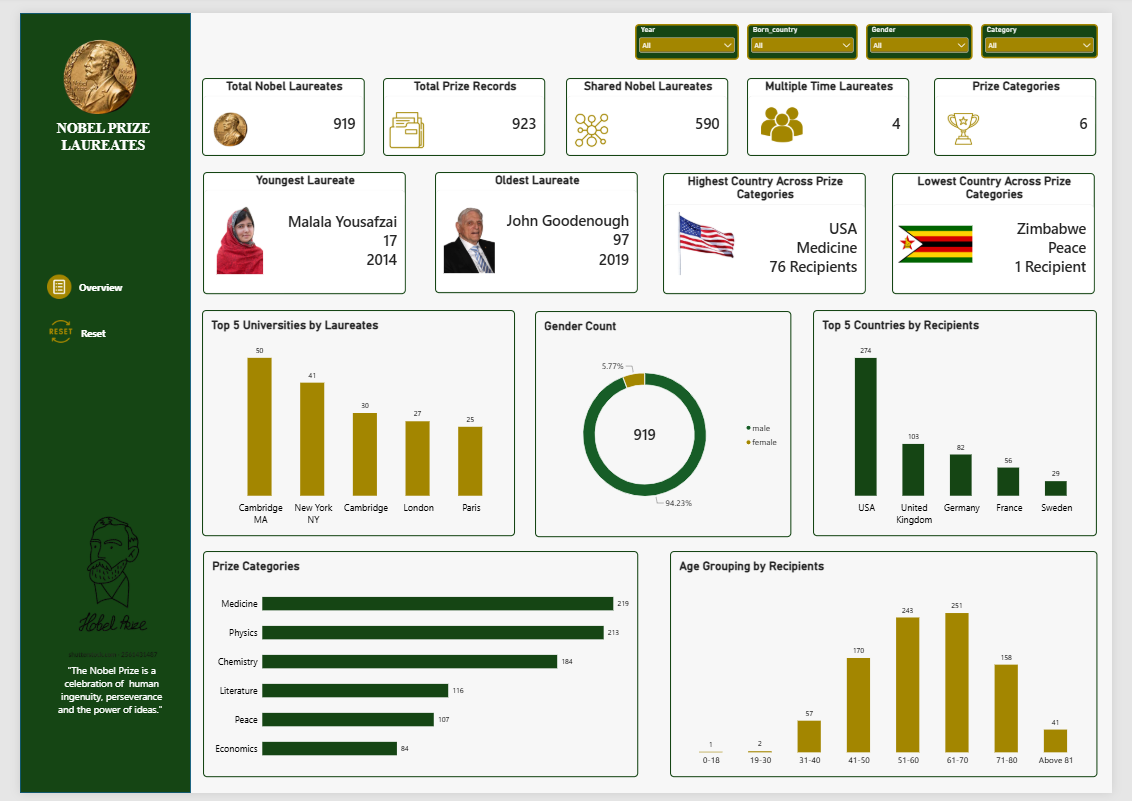

This screenshot's page, from the dashboard's own definition file:
{"tool":"powerbi","page":{"name":"Page 1","canvas":[2100,1500],"ordinal":0},"visuals":[{"type":"shape","box":[0,0,328.6,1500],"z":0},{"type":"cardVisual","title":"Youngest Laureate","fields":{"Data":["Nobel_Prize.Youngest Laureate"]},"box":[351.9,305.6,390,235.2],"z":1000},{"type":"image","box":[42.3,37.9,220.3,170.7],"z":2000},{"type":"slicer","fields":{"Values":["Nobel_Prize.year"]},"box":[1183.3,20.7,199.5,69.2],"z":3000},{"type":"slicer","fields":{"Values":["Nobel_Prize.category"]},"box":[1848.4,20.7,224.7,65.7],"z":4000},{"type":"slicer","fields":{"Values":["Nobel_Prize.gender"]},"box":[1626.3,20.7,204.8,69.2],"z":5000},{"type":"slicer","fields":{"Values":["Nobel_Prize.born_country"]},"box":[1398.8,20.7,212.8,69.2],"z":6000},{"type":"textbox","box":[56.9,208.6,205.7,81.7],"z":7000},{"type":"image","box":[338.9,368.5,168.5,133.3],"z":8000},{"type":"cardVisual","title":"Oldest Laureate","fields":{"Data":["Nobel_Prize.Oldest Laureate"]},"box":[798.1,305.6,390,233.3],"z":9000},{"type":"image","box":[798.1,366.7,131.5,133.3],"z":10000},{"type":"cardVisual","title":"Total Nobel Laureates","fields":{"Data":["Nobel_Prize.Total Nobel Laureate"]},"box":[350,124.1,313,150],"z":11000},{"type":"cardVisual","title":"Shared Nobel Laureates","fields":{"Data":["Table.Total Shared Laureates"]},"box":[1050,124.1,312,150],"z":12000},{"type":"cardVisual","title":"Highest Country Across Prize Categories","fields":{"Data":["Table.Highest Country Category"]},"box":[1237,307.4,390,233.3],"z":13000},{"type":"image","box":[364.8,185.2,77.1,79.8],"z":14000},{"type":"image","box":[1063,190.7,72.2,70.4],"z":15000},{"type":"cardVisual","title":"Multiple Time Laureates","fields":{"Data":["Table.Recipients with Multiple Nobels"]},"box":[1398.1,124.1,312,150],"z":16000},{"type":"image","box":[1422.2,175.9,83.8,79.8],"z":17000},{"type":"image","box":[1246.3,372.2,151.9,131.5],"z":18000},{"type":"clusteredBarChart","title":"Prize Categories","fields":{"Category":["Nobel_Prize.category"],"Y":["Table.Total Recipients"]},"box":[351.9,1035.2,837,435.2],"z":19000},{"type":"donutChart","title":"Gender Count","fields":{"Category":["Nobel_Prize.gender"],"Y":["Nobel_Prize.Total Nobel Laureate"]},"box":[990.7,572.2,492.6,435.2],"z":20000},{"type":"clusteredColumnChart","title":"Age Grouping by Recipients","fields":{"Category":["Nobel_Prize.age_get_prize grouping"],"Y":["Table.Total Recipients"]},"box":[1250,1035.2,822.2,435.2],"z":21000},{"type":"cardVisual","title":"Prize Categories","fields":{"Data":["Table.Prize Categories"]},"box":[1757.4,124.1,312,150],"z":22000},{"type":"image","box":[1781.5,190.7,66.5,65.2],"z":23000},{"type":"image","box":[51.8,499.4,46.6,53.2],"z":24000},{"type":"image","box":[55.5,590.2,46.6,43.9],"z":25000},{"type":"textbox","box":[113,514.8,125.9,25.9],"z":26000},{"type":"textbox","box":[116.7,603.5,79.8,30.6],"z":27000},{"type":"textbox","box":[1452,572,452,435],"z":28000},{"type":"textbox","box":[65.7,1252.9,221.4,202.9],"z":29000},{"type":"clusteredColumnChart","title":"Top 5 Countries by Recipients","fields":{"Category":["Nobel_Prize.born_country"],"Y":["Table.Top 5 Countries"]},"box":[1525.9,570.4,546.3,435.2],"z":30000},{"type":"image","box":[28.6,935.7,300,306.7],"z":31000},{"type":"clusteredColumnChart","title":"Top 5 Universities by Laureates","fields":{"Category":["Nobel_Prize.city_of_university"],"Y":["Nobel_Prize.Total Nobel Laureate"]},"box":[350,570.4,601.9,435.2],"z":32000},{"type":"cardVisual","title":"Lowest Country Across Prize Categories","fields":{"Data":["Table.Lowest Country Category"]},"box":[1677.8,307.4,390,233.3],"z":33000},{"type":"cardVisual","title":"Total Prize Records","fields":{"Data":["Table.Total Prize Records"]},"box":[698.1,124.1,312,150],"z":34000},{"type":"image","box":[1688.9,372.2,142.6,142.6],"z":35000},{"type":"image","box":[707.4,190.7,72.2,70.4],"z":36001}]}

Visuals, with their boxes in screenshot pixels (x1, y1, x2, y2), scaled from the page's 2100x1500 canvas onto the 1132x801 screenshot:
shape: (left=0, top=0, right=177, bottom=800)
"Youngest Laureate" cardVisual: (left=190, top=163, right=400, bottom=289)
image: (left=23, top=20, right=142, bottom=111)
slicer - Nobel_Prize.year: (left=638, top=11, right=745, bottom=48)
slicer - Nobel_Prize.category: (left=996, top=11, right=1117, bottom=46)
slicer - Nobel_Prize.gender: (left=877, top=11, right=987, bottom=48)
slicer - Nobel_Prize.born_country: (left=754, top=11, right=869, bottom=48)
textbox: (left=31, top=111, right=142, bottom=155)
image: (left=183, top=197, right=274, bottom=268)
"Oldest Laureate" cardVisual: (left=430, top=163, right=640, bottom=288)
image: (left=430, top=196, right=501, bottom=267)
"Total Nobel Laureates" cardVisual: (left=189, top=66, right=357, bottom=146)
"Shared Nobel Laureates" cardVisual: (left=566, top=66, right=734, bottom=146)
"Highest Country Across Prize Categories" cardVisual: (left=667, top=164, right=877, bottom=289)
image: (left=197, top=99, right=238, bottom=142)
image: (left=573, top=102, right=612, bottom=139)
"Multiple Time Laureates" cardVisual: (left=754, top=66, right=922, bottom=146)
image: (left=767, top=94, right=812, bottom=137)
image: (left=672, top=199, right=754, bottom=269)
"Prize Categories" clusteredBarChart: (left=190, top=553, right=641, bottom=785)
"Gender Count" donutChart: (left=534, top=306, right=800, bottom=538)
"Age Grouping by Recipients" clusteredColumnChart: (left=674, top=553, right=1117, bottom=785)
"Prize Categories" cardVisual: (left=947, top=66, right=1116, bottom=146)
image: (left=960, top=102, right=996, bottom=137)
image: (left=28, top=267, right=53, bottom=295)
image: (left=30, top=315, right=55, bottom=339)
textbox: (left=61, top=275, right=129, bottom=289)
textbox: (left=63, top=322, right=106, bottom=339)
textbox: (left=783, top=305, right=1026, bottom=538)
textbox: (left=35, top=669, right=155, bottom=777)
"Top 5 Countries by Recipients" clusteredColumnChart: (left=823, top=305, right=1117, bottom=537)
image: (left=15, top=500, right=177, bottom=663)
"Top 5 Universities by Laureates" clusteredColumnChart: (left=189, top=305, right=513, bottom=537)
"Lowest Country Across Prize Categories" cardVisual: (left=904, top=164, right=1115, bottom=289)
"Total Prize Records" cardVisual: (left=376, top=66, right=544, bottom=146)
image: (left=910, top=199, right=987, bottom=275)
image: (left=381, top=102, right=420, bottom=139)
